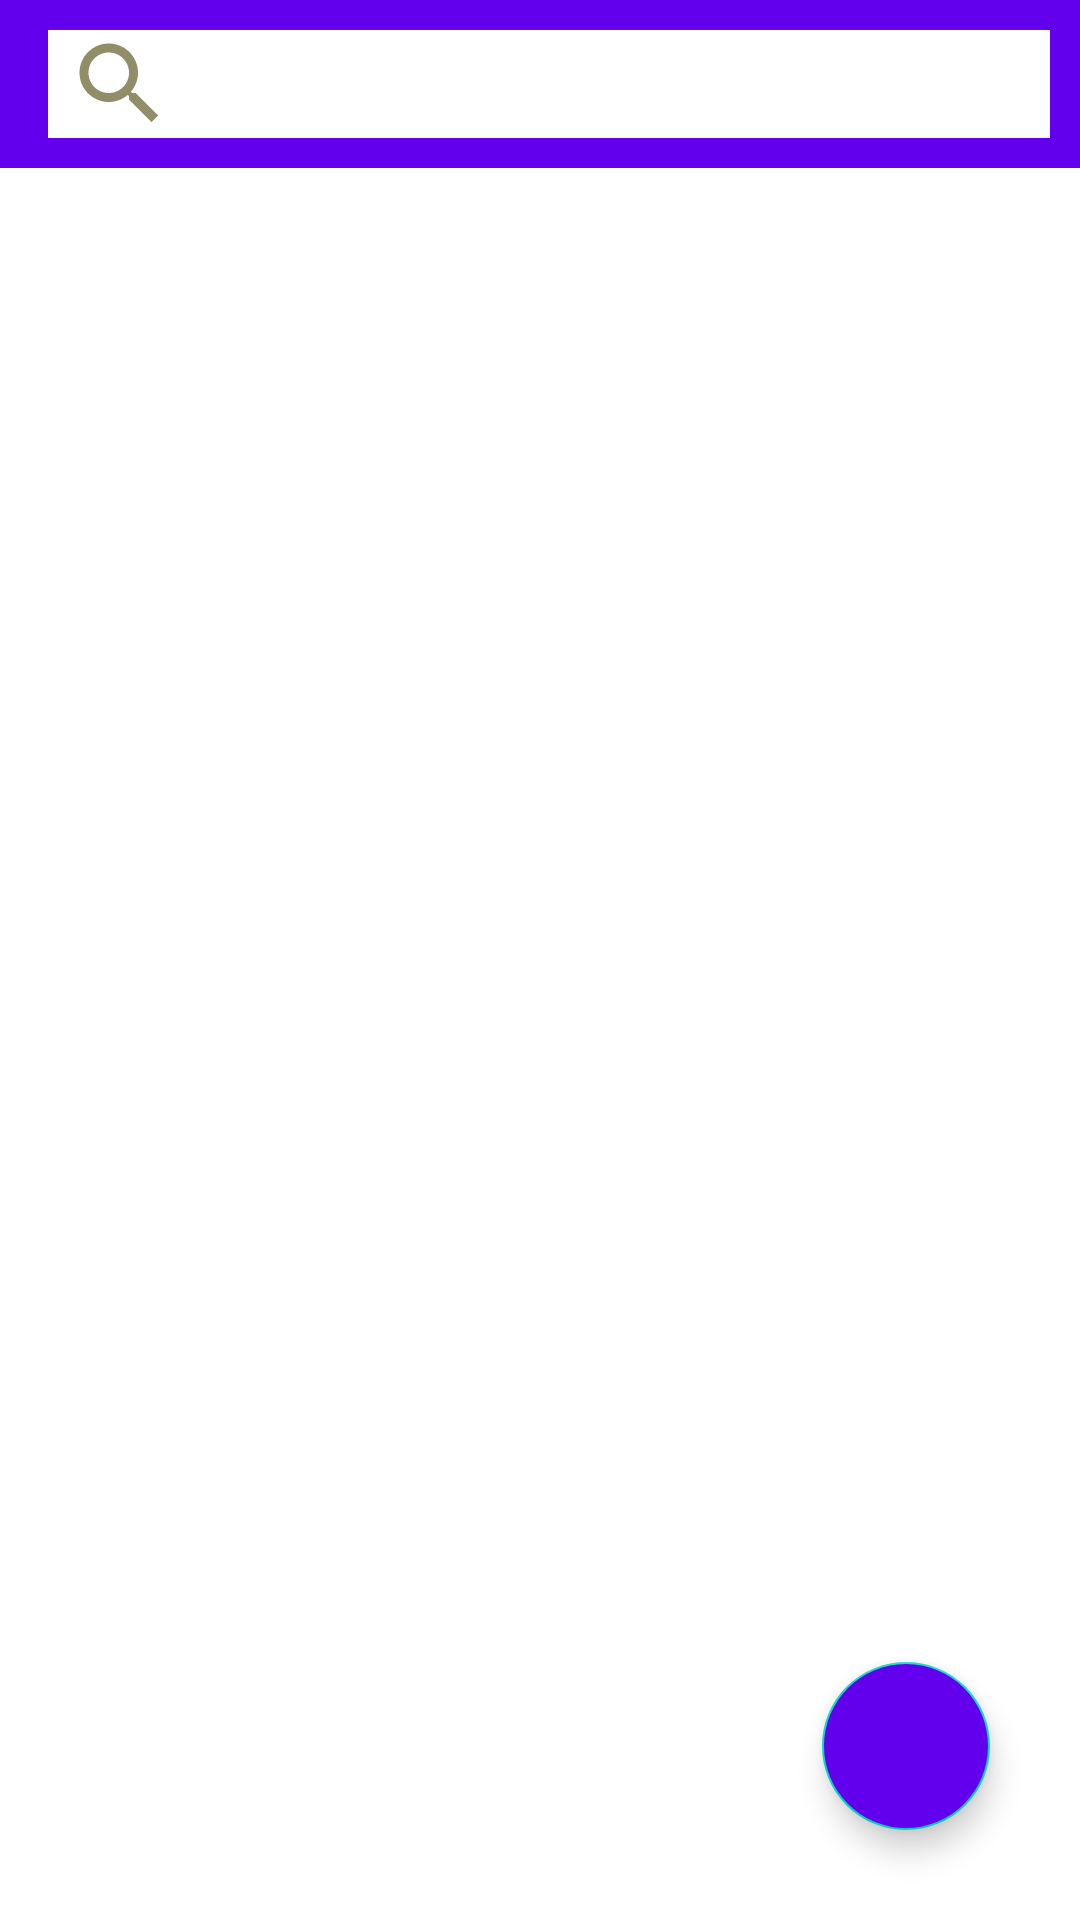

Icons on this 1080w x 1920h Android screen, each with its box as (x1, y1, x2, y2):
search: (48, 30, 191, 138)
